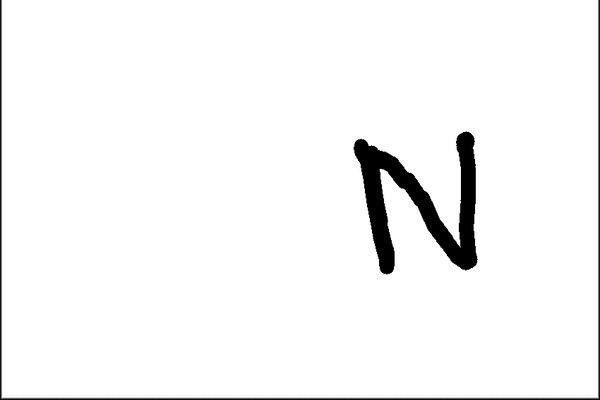N: (347, 128, 484, 278)
